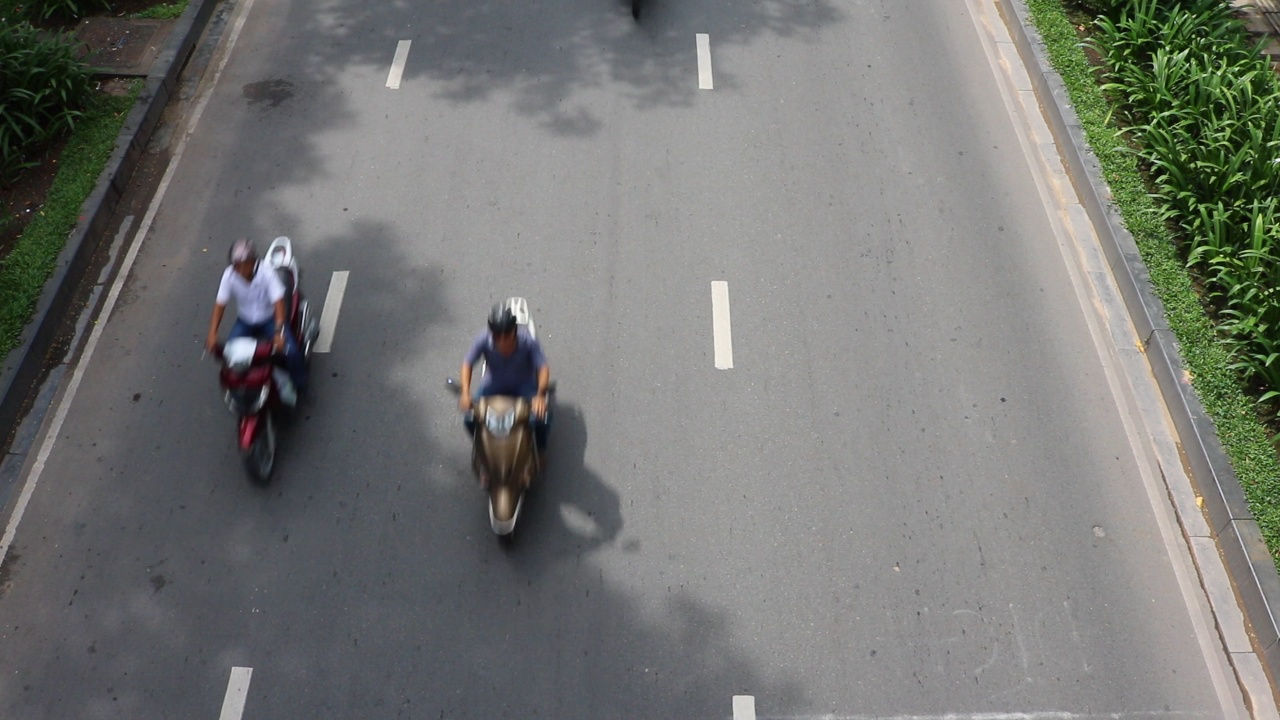motorcycle: (452, 378, 553, 539), (207, 326, 302, 493)
